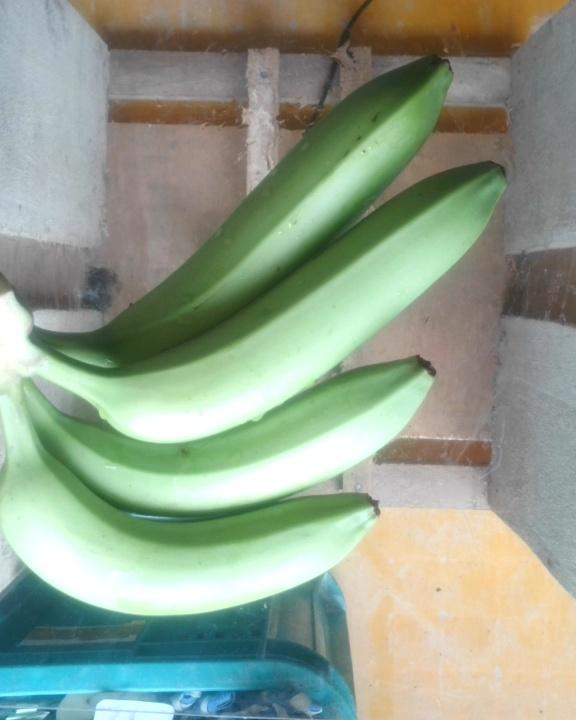SPOT: (1, 43, 538, 631)
